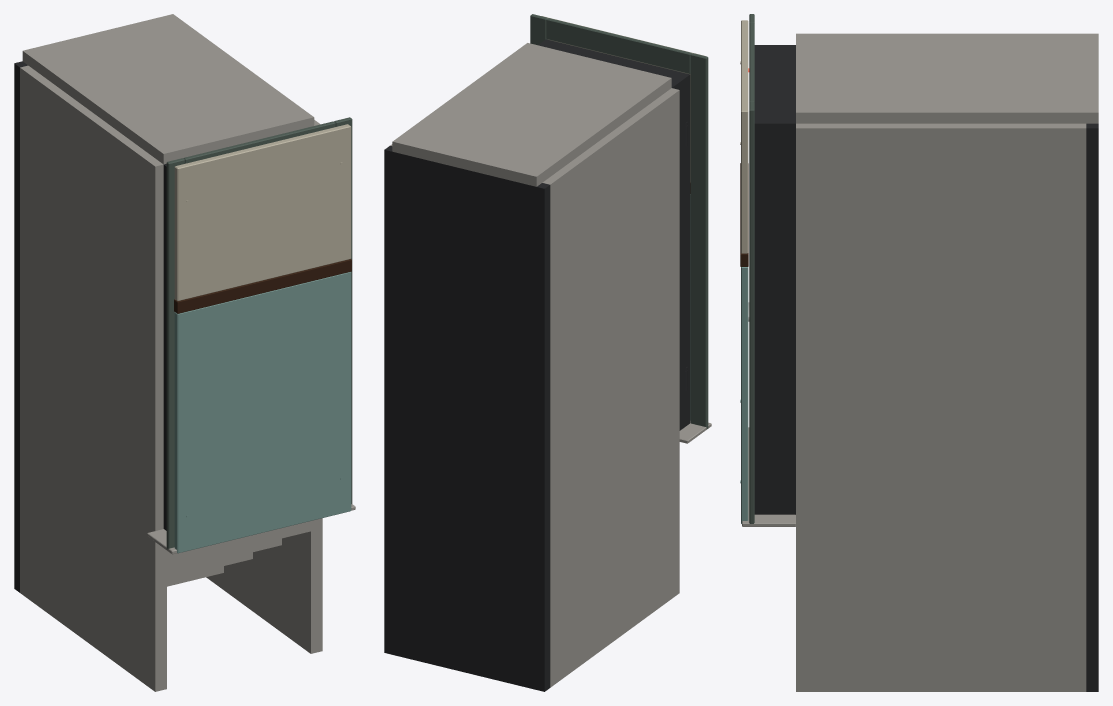
The model's file is service_door.glb.
The picture shows the model from 3 angles, left to right: view 1: azimuth 30°, elevation 25°; view 2: azimuth 150°, elevation 25°; view 3: azimuth 270°, elevation 25°; orthographic projection. The views are drawn at different scales.
Visible parts, largest first — view 1: service_door_frame, IA_cover_panel; view 2: service_door_frame, IA_cover_panel; view 3: service_door_frame, IA_cover_panel.
Boxes of the visible parts, x1,y1,x2,y2 form: service_door_frame: (14,14,355,691); IA_cover_panel: (174,124,351,553); service_door_frame: (384,14,711,691); IA_cover_panel: (541,16,705,420); service_door_frame: (742,14,1098,691); IA_cover_panel: (740,20,748,523).
Bounding box in the file's own units: 1.1 × 3.12 × 1.73.
